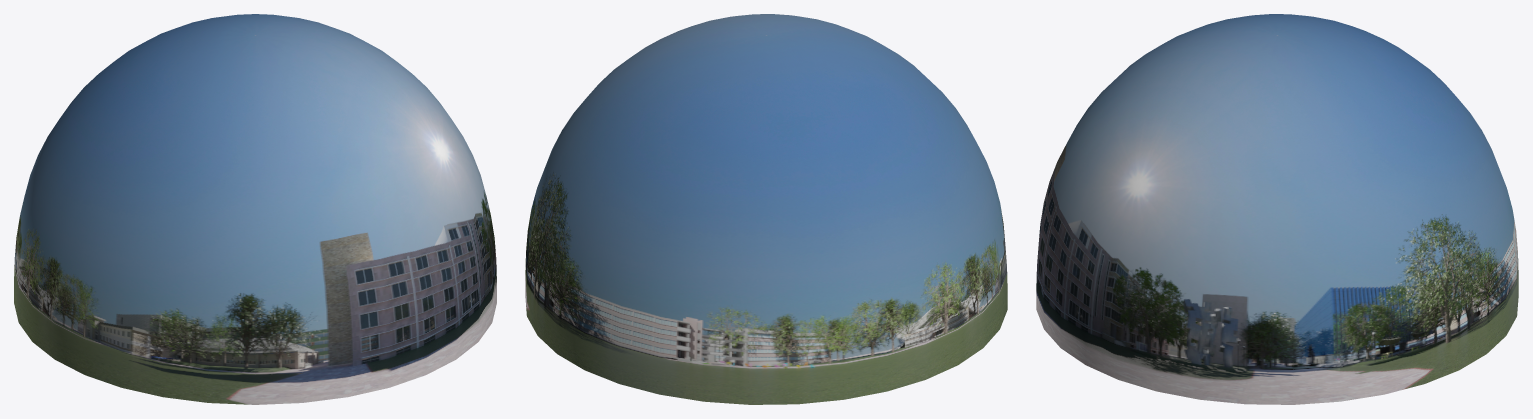
The picture shows the model from 3 angles, left to right: view 1: azimuth 30°, elevation 25°; view 2: azimuth 150°, elevation 25°; view 3: azimuth 270°, elevation 25°; orthographic projection.
Visible parts, largest first — view 1: Sphere; view 2: Sphere; view 3: Sphere.
Boxes of the visible parts, <box> form: Sphere: <box>14,14,496,404</box>; Sphere: <box>525,14,1007,404</box>; Sphere: <box>1036,14,1518,404</box>.
Bounding box in the file's own units: 1.94 × 1.19 × 1.94.
1 material, 1 textured.
